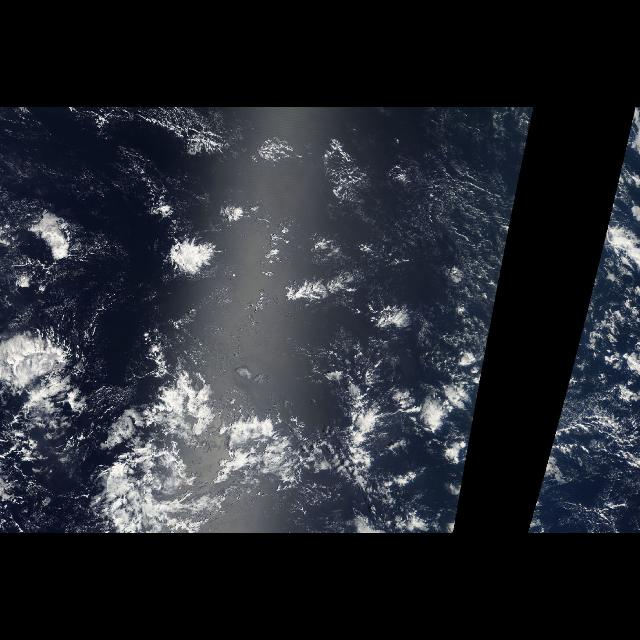Fish: (4, 358, 452, 532)
Flower: (8, 112, 534, 352)
